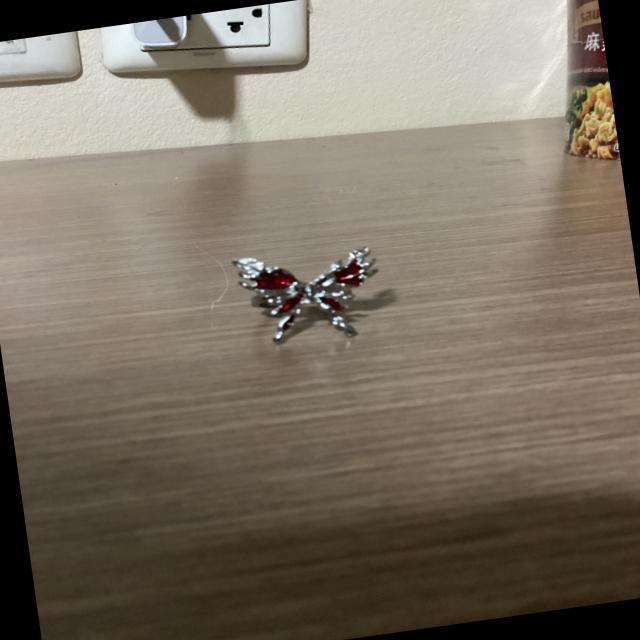Ring: (221, 221, 404, 350)
